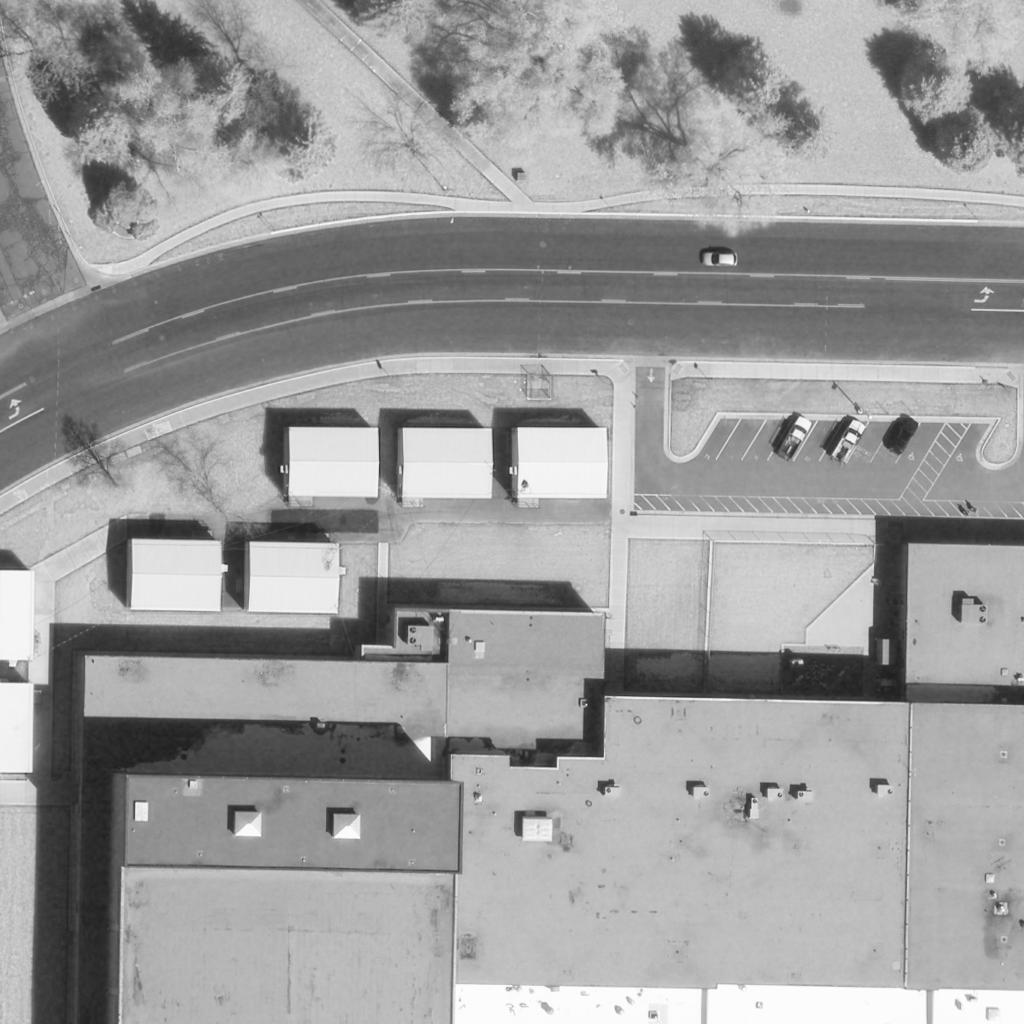vehicle: (776, 417, 814, 463), (830, 419, 866, 465), (889, 417, 919, 457), (702, 252, 738, 266)
